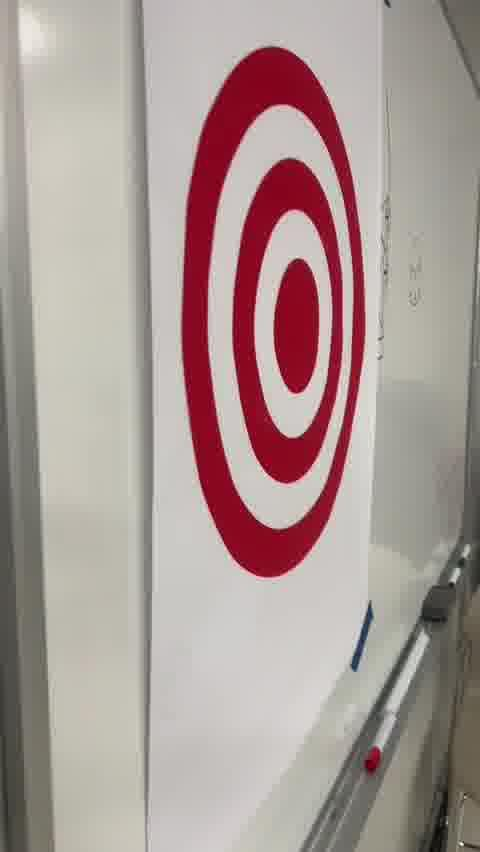target_red: (180, 45, 365, 578)
